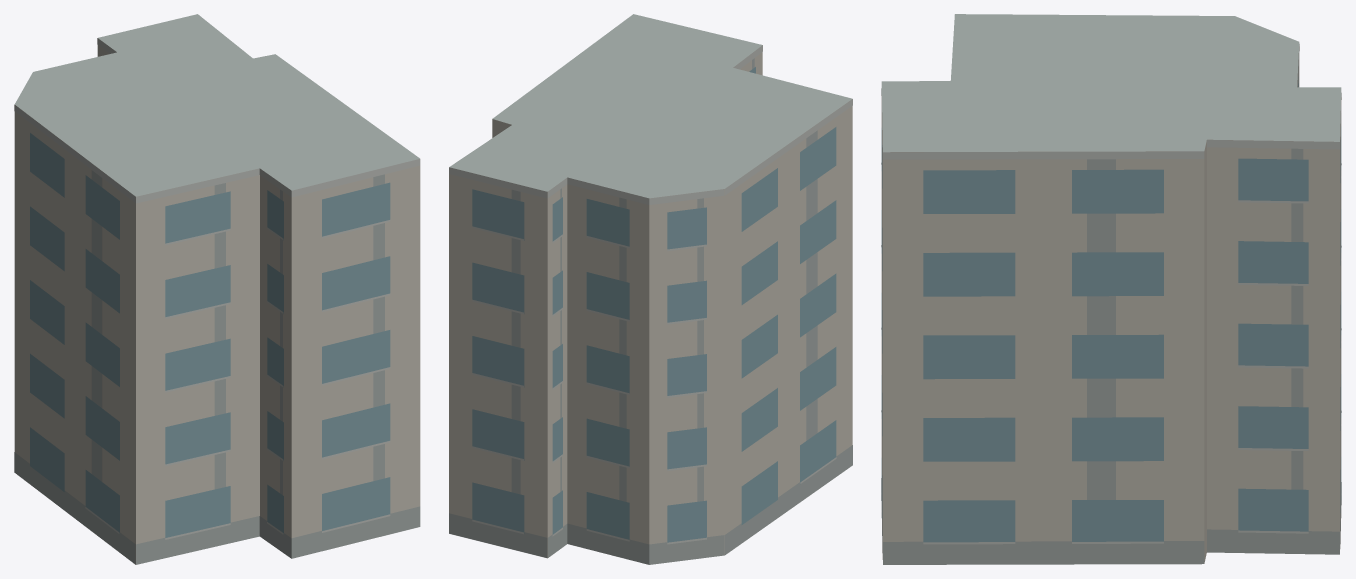
The model's file is survey-upis-32978139.glb.
3 views of the same model, side by side, from view 1: azimuth 30°, elevation 25°; view 2: azimuth 150°, elevation 25°; view 3: azimuth 270°, elevation 25° (orthographic). The views are drawn at different scales.
Visible parts, largest first — view 1: survey-upis-32978139.tmp; view 2: survey-upis-32978139.tmp; view 3: survey-upis-32978139.tmp.
Boxes of the visible parts, left/top/right/bottom form: survey-upis-32978139.tmp: left=14, top=14, right=420, bottom=564; survey-upis-32978139.tmp: left=449, top=14, right=852, bottom=564; survey-upis-32978139.tmp: left=881, top=14, right=1341, bottom=564.
Bounding box in the file's own units: 9.48 × 13.2 × 13.34.
